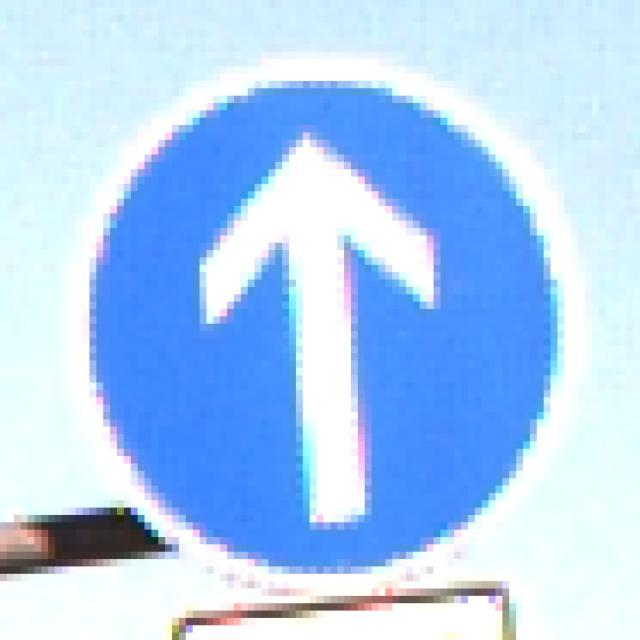compulsary ahead: (58, 52, 595, 586)
